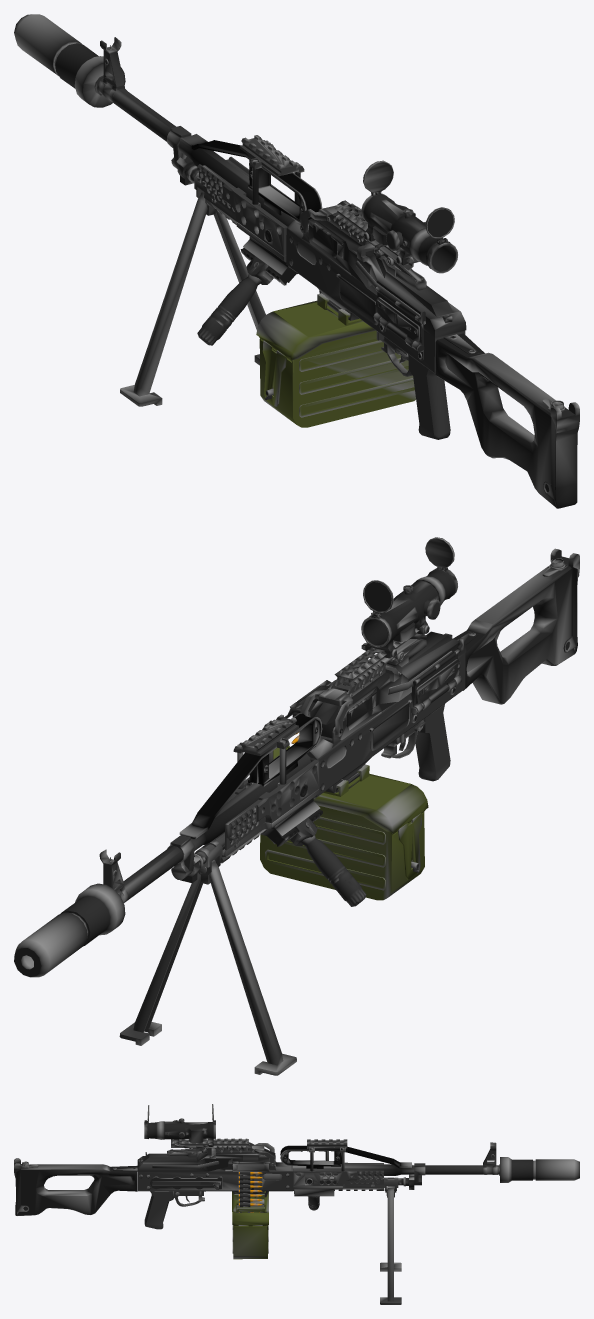
The model's file is pkp.glb.
3 views of the same model, one above another, from view 1: azimuth 30°, elevation 25°; view 2: azimuth 150°, elevation 25°; view 3: azimuth 270°, elevation 25° (orthographic). The views are drawn at different scales.
Visible parts, largest first — view 1: gun_pkp; view 2: gun_pkp; view 3: gun_pkp.
Boxes of the visible parts, x1=… form: gun_pkp: x1=14, y1=14, x2=579, y2=508; gun_pkp: x1=14, y1=537, x2=579, y2=1075; gun_pkp: x1=14, y1=1104, x2=579, y2=1304.
Bounding box in the file's own units: 0.1729 × 0.3535 × 1.
